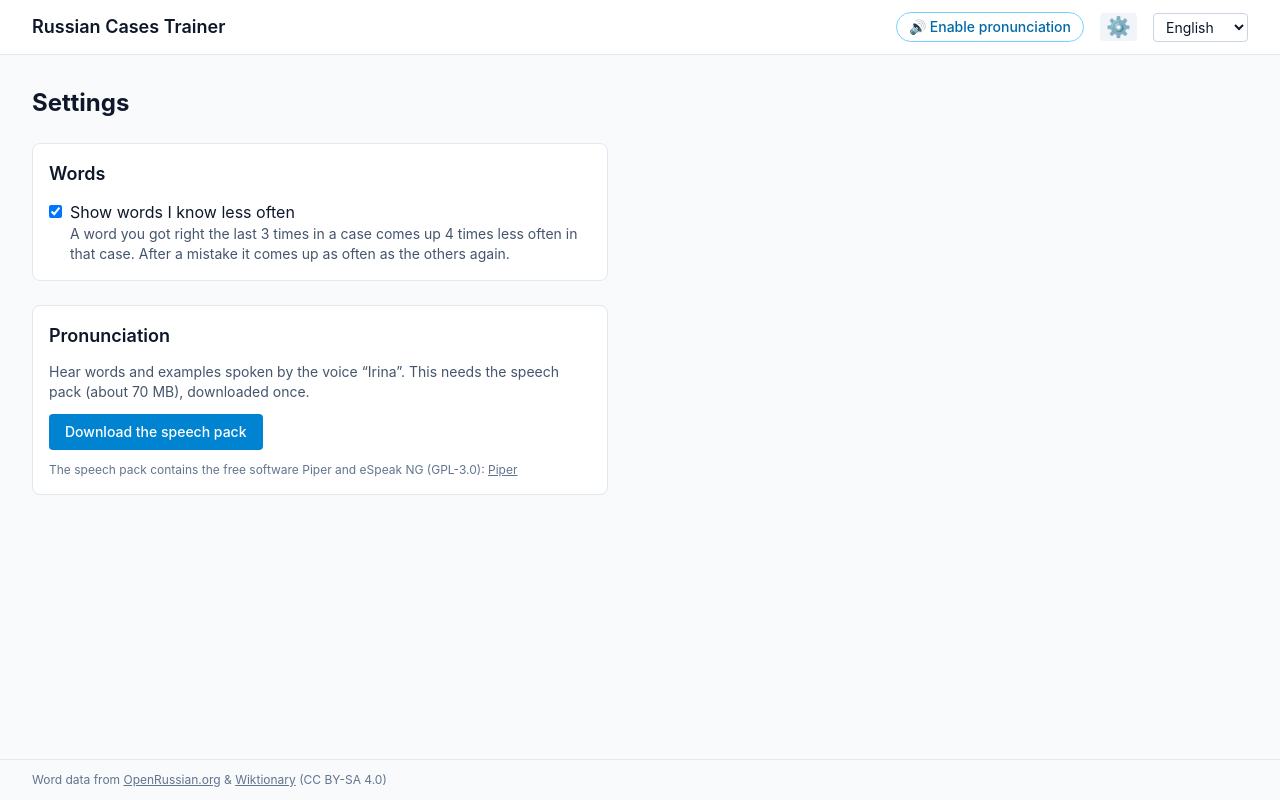
a setting that could not be saved goes back
Click the checkbox labelled "Show words I know less often" at point(56, 212), box [49,205,62,218]
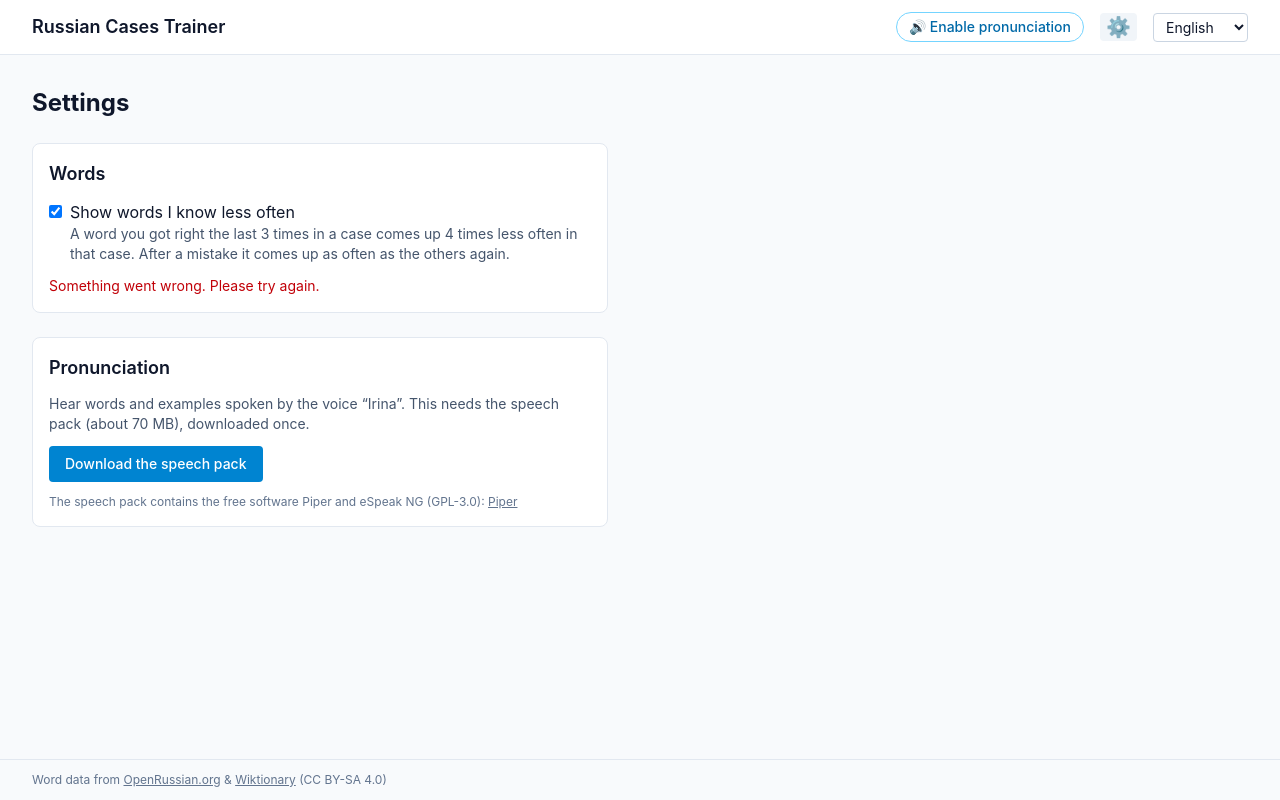
expect the message shows "Something went wrong": met, box [49,277,320,294]
